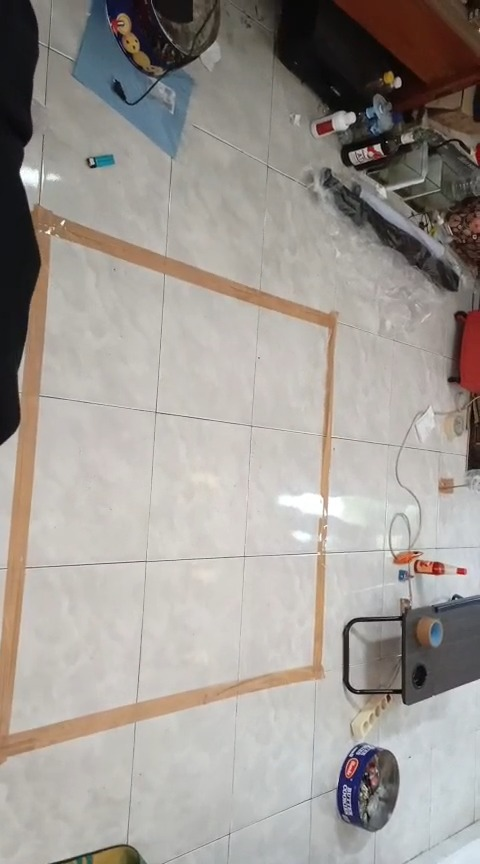floor marking: (0, 206, 335, 763)
